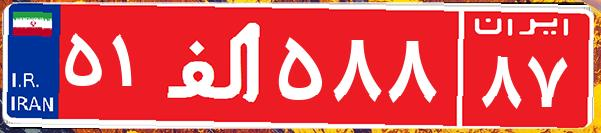1: (110, 28, 158, 105)
5: (273, 28, 330, 110), (57, 26, 110, 107)
7: (525, 38, 570, 115)
8: (385, 28, 445, 110), (330, 28, 385, 110), (475, 38, 525, 113)
الف: (158, 15, 273, 115)
